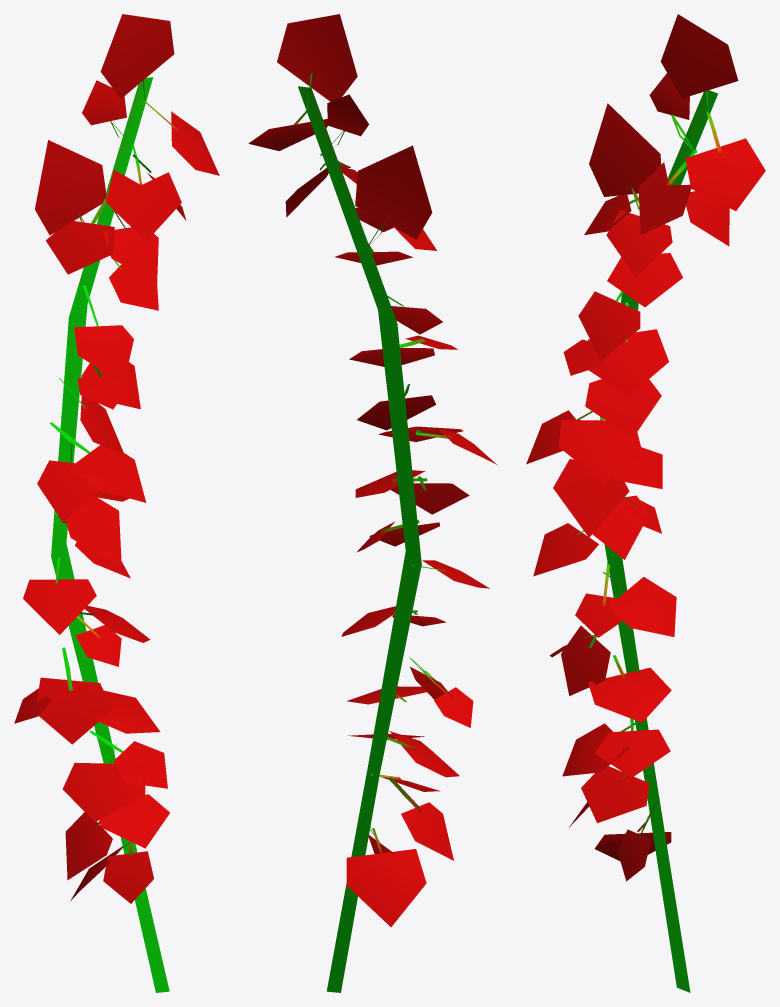
Rendered from Var12_LOD4.fbx.
3 renders of one model, left to right at view 1: azimuth 30°, elevation 25°; view 2: azimuth 150°, elevation 25°; view 3: azimuth 330°, elevation 25°, orthographic. The views are drawn at different scales.
Visible parts, largest first — view 1: _7v7j_Var12_LOD4; view 2: _7v7j_Var12_LOD4; view 3: _7v7j_Var12_LOD4.
Boxes of the visible parts, left/top/right/bottom form: _7v7j_Var12_LOD4: left=14, top=14, right=219, bottom=992; _7v7j_Var12_LOD4: left=248, top=14, right=496, bottom=992; _7v7j_Var12_LOD4: left=526, top=14, right=765, bottom=992.
Bounding box in the file's own units: 16.43 × 75.78 × 8.92.
